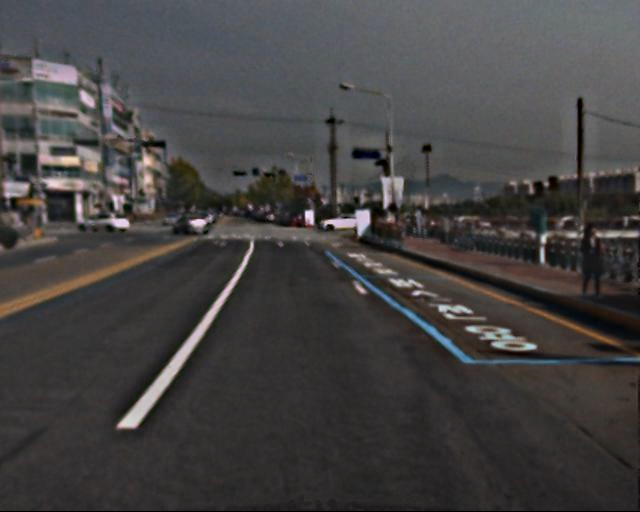person: (572, 223, 606, 305)
